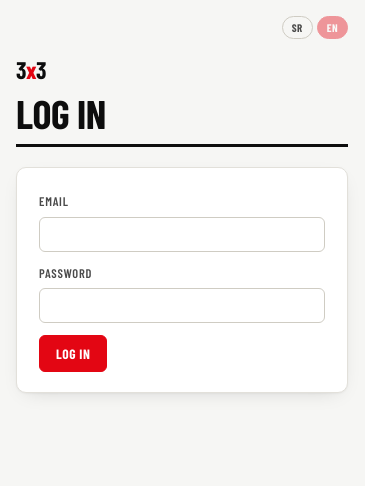
Scenario: LoginPage › shows validation errors instead of submitting when the form is empty
Click the button "Log in" at coordinates (73, 353), box [39,335,107,372]
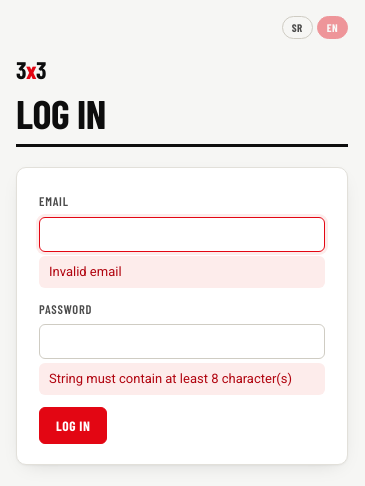
Result: the text "Invalid email" is shown at [39,256,325,288]
